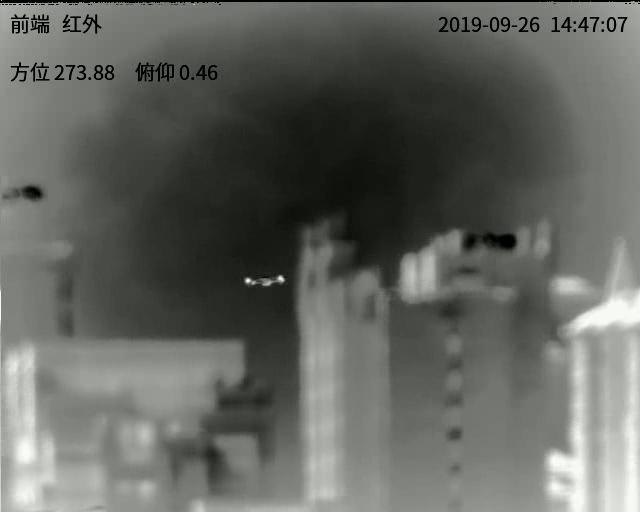DRONE: (242, 275, 287, 289)
